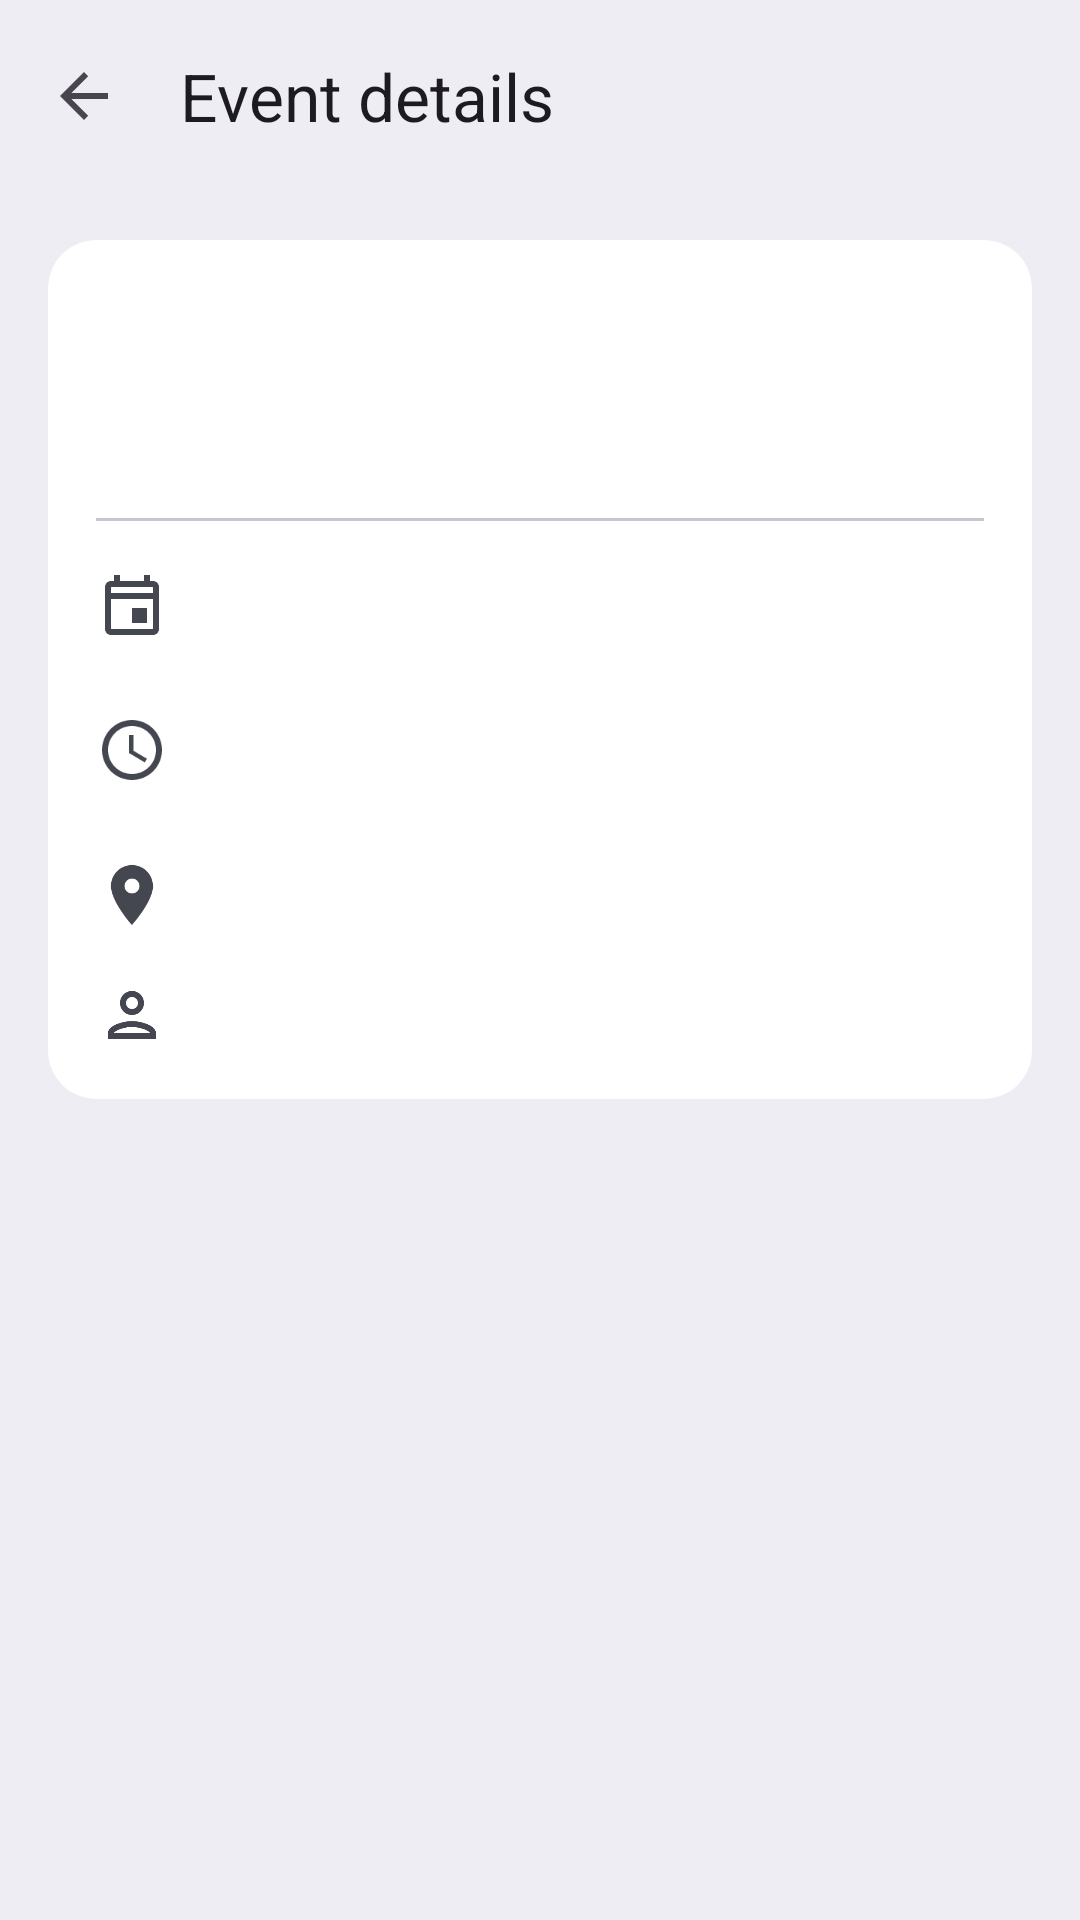

Named icons in this screenshot (1080x1920) and their bounding boxes, [x1,y1,x2,y2]:
event: [105,575,159,635]
person: [108,991,156,1039]
place: [111,865,153,925]
schedule: [102,720,162,780]
